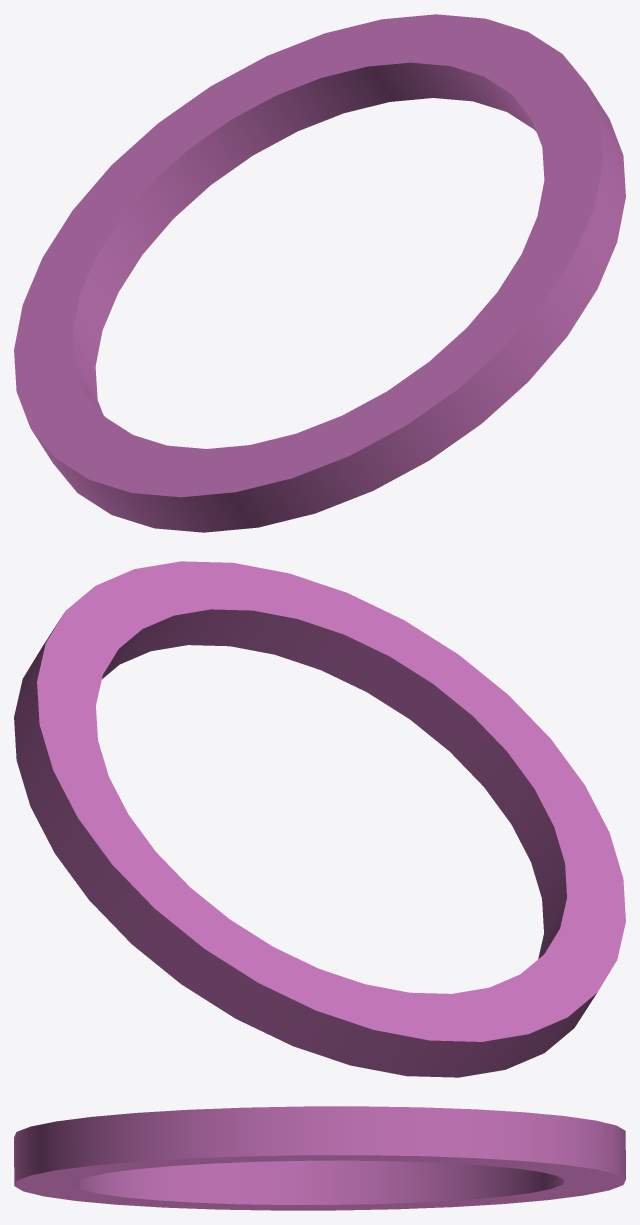
The model's file is Ring_4.glb.
The picture shows the model from 3 angles, top to bottom: view 1: azimuth 30°, elevation 25°; view 2: azimuth 150°, elevation 25°; view 3: azimuth 270°, elevation 25°; orthographic projection. The views are drawn at different scales.
Parts seen in each view (by area): view 1: Ring_4; view 2: Ring_4; view 3: Ring_4.
Boxes of the visible parts, x1=… form: Ring_4: x1=14, y1=14, x2=625, y2=532; Ring_4: x1=14, y1=561, x2=625, y2=1077; Ring_4: x1=14, y1=1106, x2=625, y2=1210.
Size of the model in its own units: 2.26 by 1.43 by 2.5.
